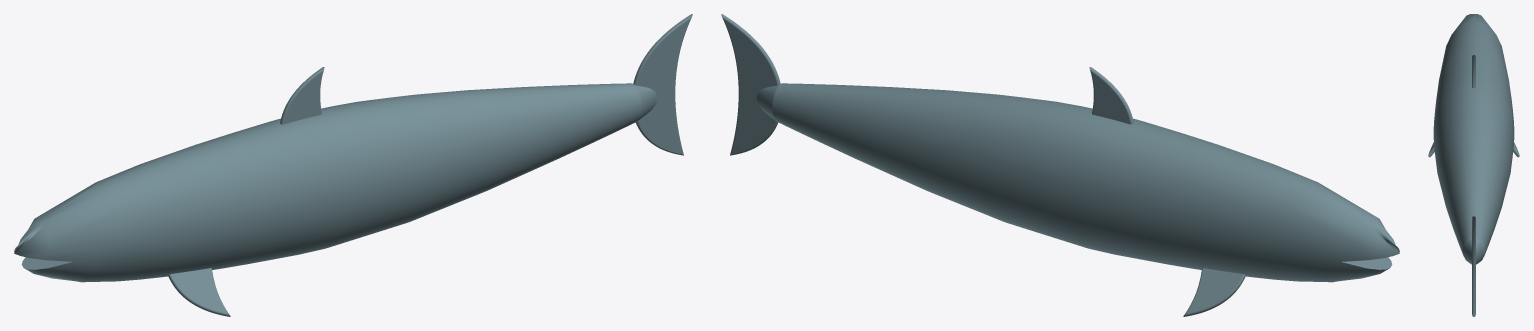
File: fish.glb
The picture shows the model from 3 angles, left to right: view 1: azimuth 30°, elevation 25°; view 2: azimuth 150°, elevation 25°; view 3: azimuth 270°, elevation 25°; orthographic projection. The views are drawn at different scales.
Visible parts, largest first — view 1: Object_1; view 2: Object_1; view 3: Object_1.
Boxes of the visible parts, x1,y1,x2,y2 form: Object_1: (14, 14, 692, 316); Object_1: (721, 14, 1399, 316); Object_1: (1428, 14, 1519, 316).
Bounding box in the file's own units: 0.7662 × 0.2136 × 0.1202.
